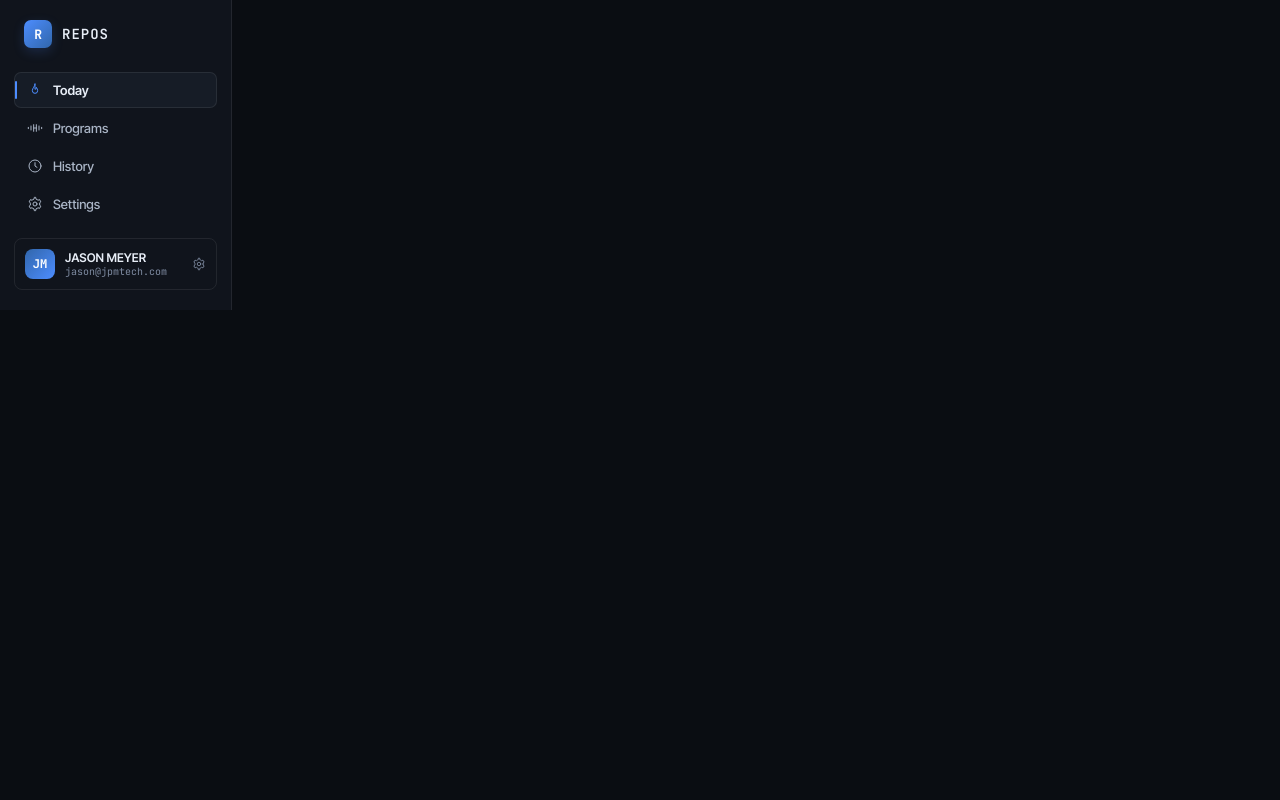
Test: Sidebar account menu › opens the popover on click and reveals display name + email + menu items
The width and height of the screenshot is (1280, 800).
Click the button with aria-label "account menu": coordinates (116, 264) [14,238,217,290]
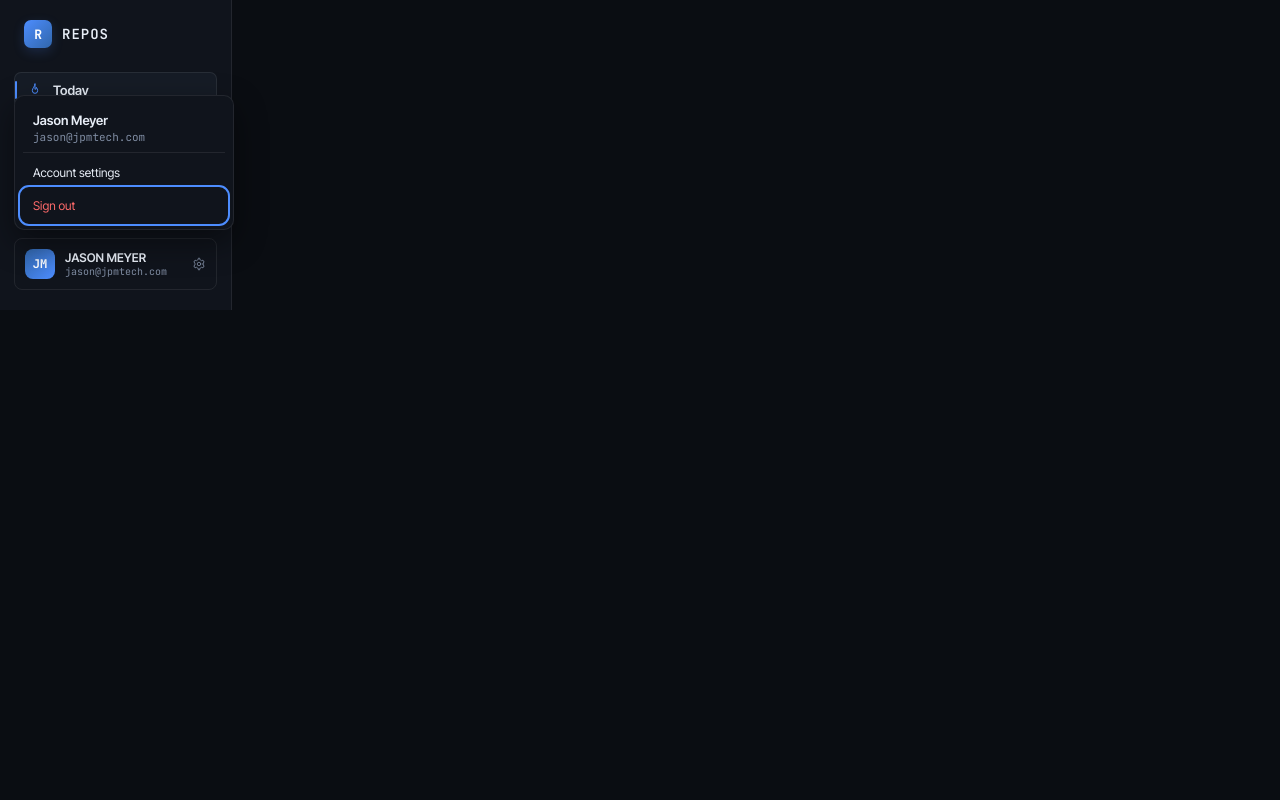
Now the menu item "Account settings" is shown, box [33,165,120,180]
Now the menu item "Sign out" is shown, box [23,190,225,221]
